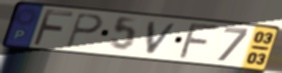5: (108, 15, 140, 55)
7: (215, 25, 253, 64)
F: (30, 7, 76, 47), (176, 23, 223, 61)
P: (64, 12, 104, 49)
V: (145, 20, 180, 56)
